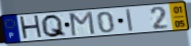0: (96, 11, 118, 34)
2: (149, 5, 170, 31)
H: (18, 14, 45, 41)
I: (125, 8, 135, 33)
M: (69, 11, 97, 38)
Q: (41, 14, 69, 39)
